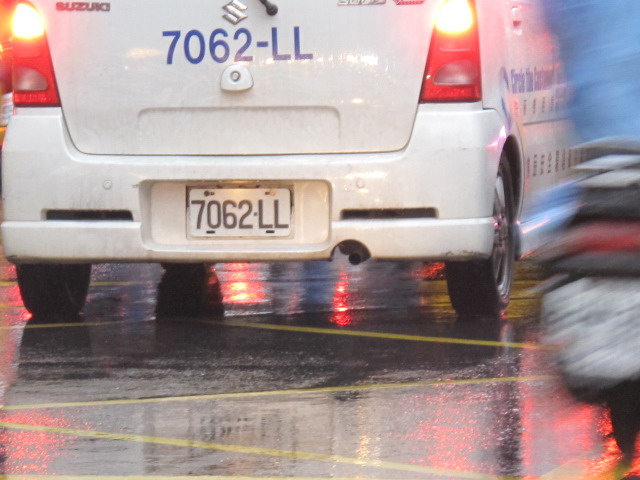plate: (181, 188, 296, 239)
